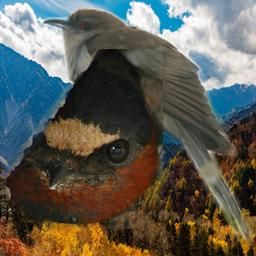Cuckoo: (43, 8, 254, 248)
Swallow: (5, 49, 163, 229)
